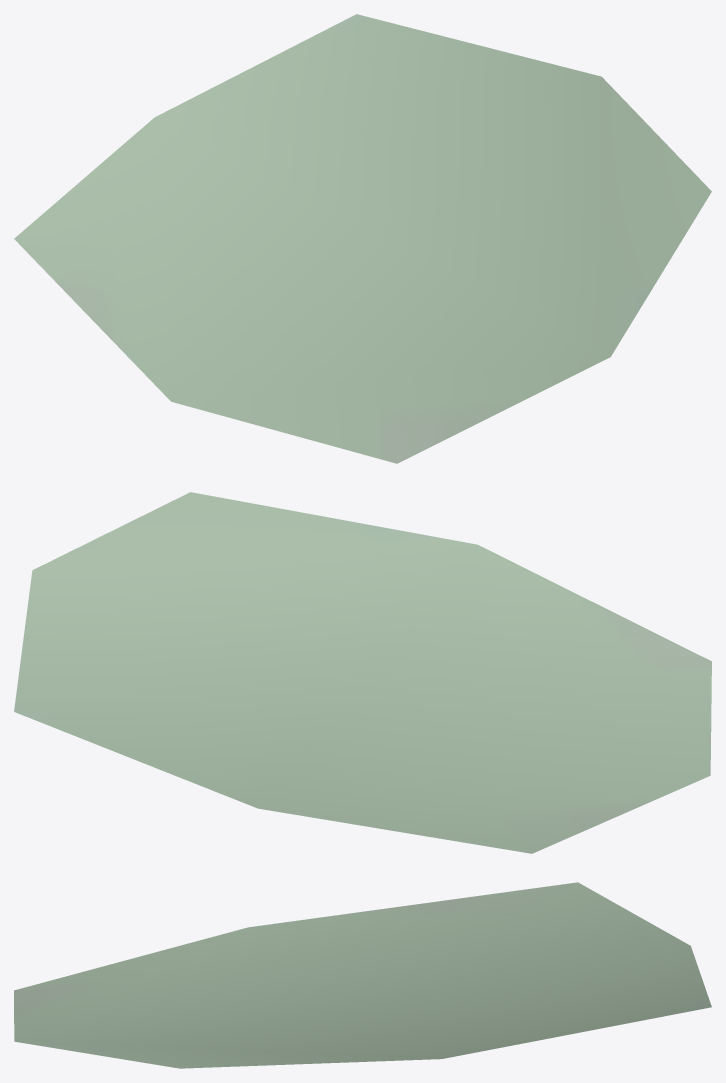
File: TROLLHOLE02_HOLECAP193.fbx
3 renders of one model, top to bottom at view 1: azimuth 30°, elevation 25°; view 2: azimuth 150°, elevation 25°; view 3: azimuth 270°, elevation 25°, orthographic. The views are drawn at different scales.
Visible parts, largest first — view 1: TROLLHOLE02_HOLECAP193; view 2: TROLLHOLE02_HOLECAP193; view 3: TROLLHOLE02_HOLECAP193.
Boxes of the visible parts, x1,y1,x2,y2 form: TROLLHOLE02_HOLECAP193: (14, 14, 711, 463); TROLLHOLE02_HOLECAP193: (14, 492, 711, 853); TROLLHOLE02_HOLECAP193: (14, 882, 711, 1068).
Bounding box in the file's own units: 11427 × 2800 × 12776.
1 material, 1 textured.
